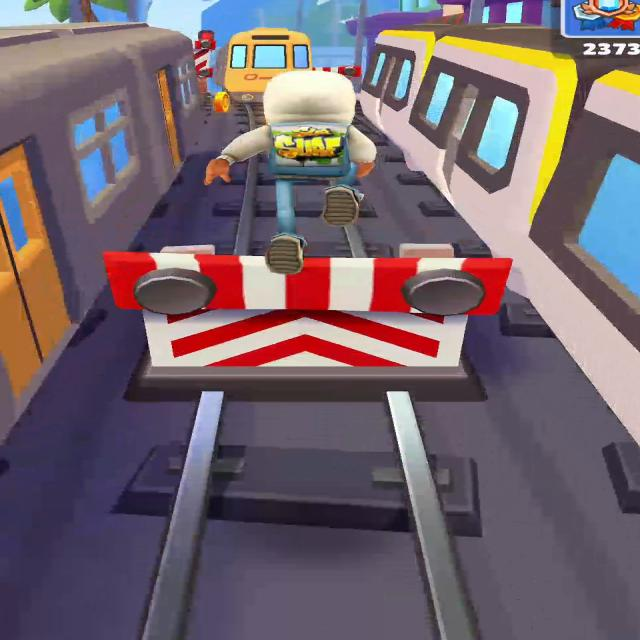blocker: (314, 67, 359, 77)
jump-barrier: (195, 48, 209, 92)
roll blocker: (104, 246, 512, 401)
train: (0, 29, 203, 390), (409, 25, 577, 256), (359, 24, 450, 136), (214, 26, 313, 106)
